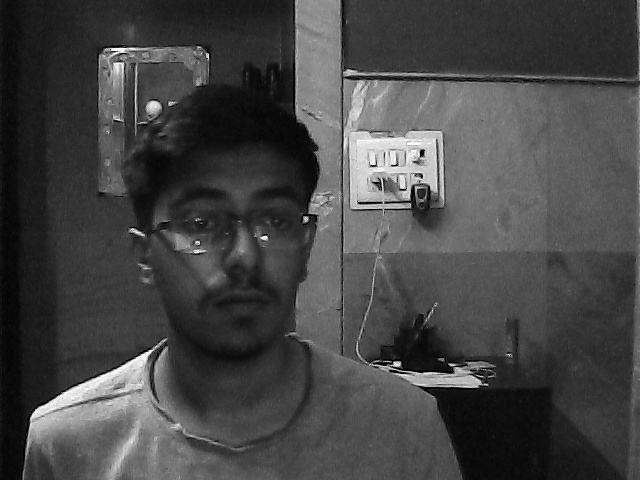nomask: (141, 134, 310, 359)
